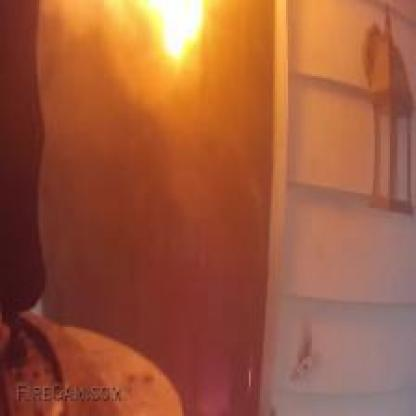fire: (124, 0, 223, 72)
